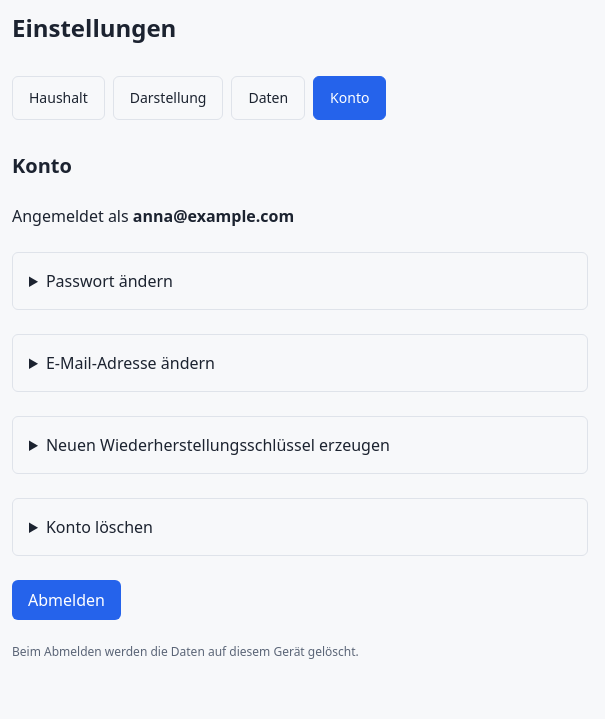
it: Einstellungen: Konto › neuer Wiederherstellungsschlüssel wird einmal angezeigt
The image size is (605, 719).
Expected: the heading "Konto" is shown, [12,152,72,179]
Click the heading "Neuen Wiederherstellungsschlüssel erzeugen" at x=218, y=445, box [46,434,390,456]
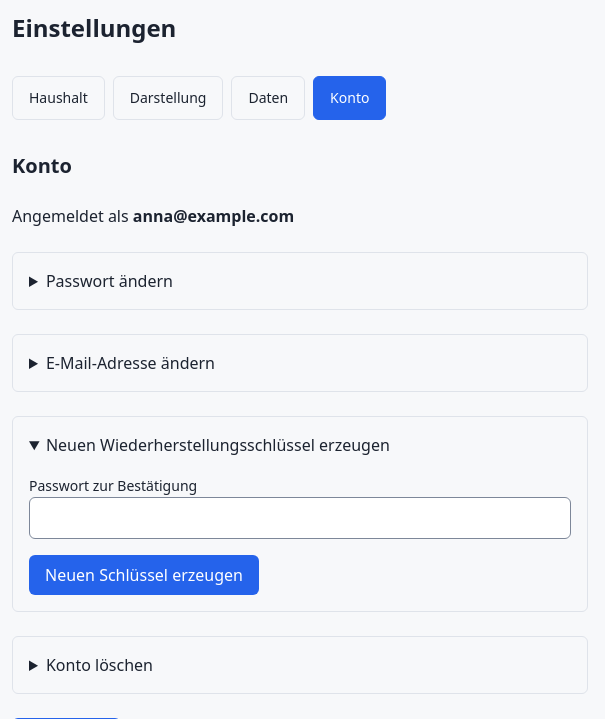
Type "Mein-Passwort-123" into the password field labelled "Passwort zur Bestätigung" at x=300, y=518, box [29,497,571,539]
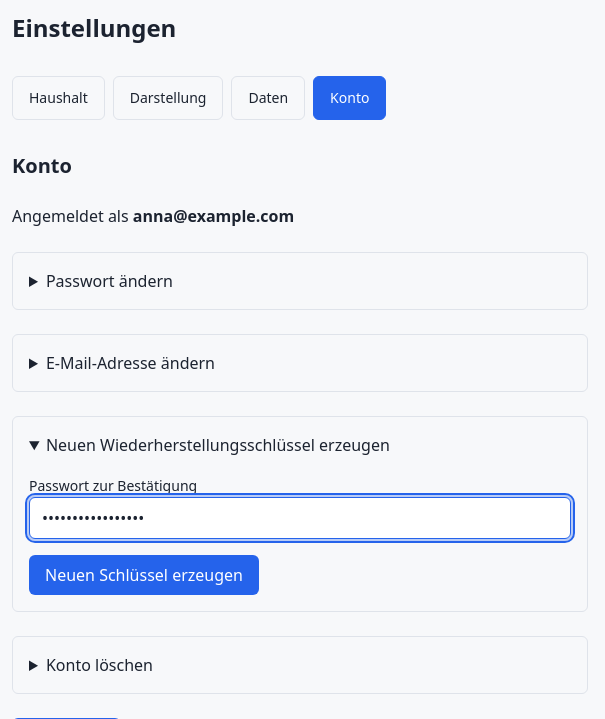
Click the button "Neuen Schlüssel erzeugen" at x=144, y=575, box [29,555,259,595]
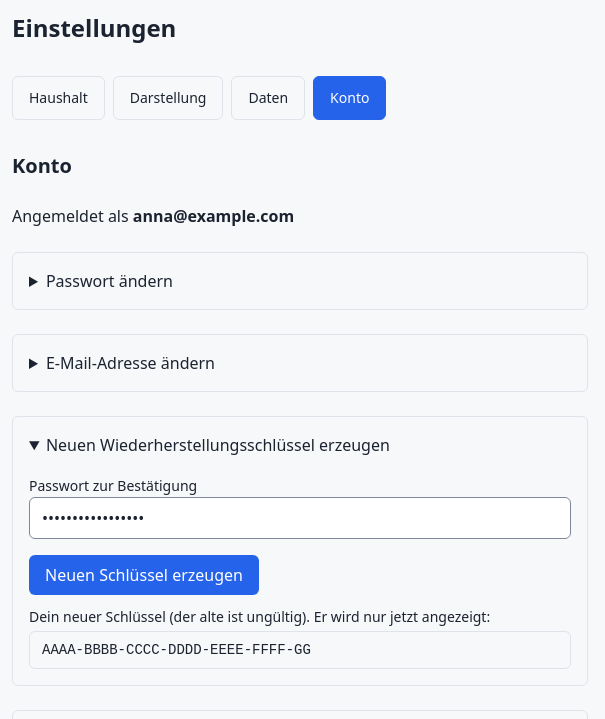
Expected: the text "AAAA-BBBB-CCCC-DDDD-EEEE-FFFF-GG" is shown, [29,631,571,669]
